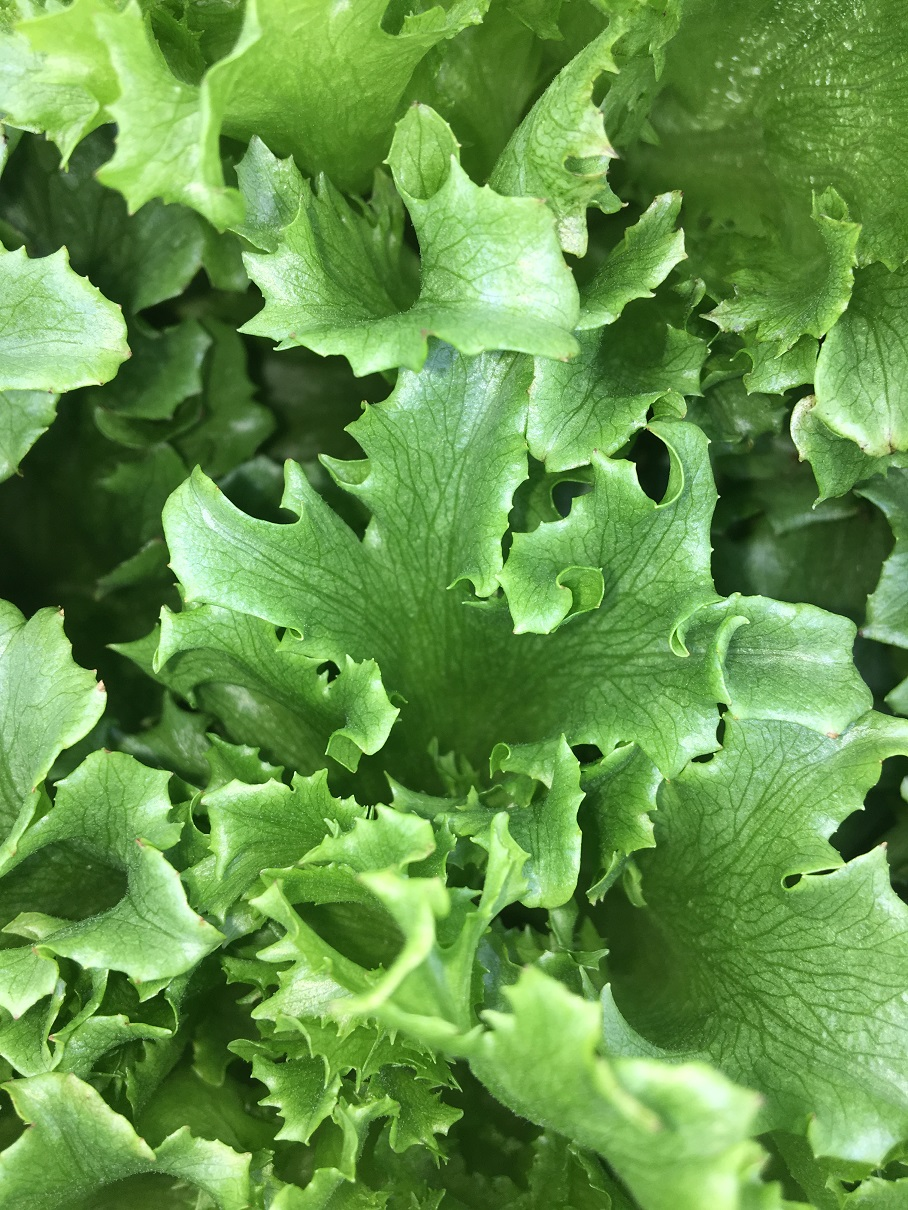tipburn: (697, 285, 755, 340), (179, 897, 220, 943), (715, 684, 751, 735), (554, 333, 594, 377), (31, 1018, 71, 1060), (811, 721, 853, 761), (788, 382, 829, 422), (403, 314, 443, 354), (523, 179, 564, 218), (582, 93, 622, 130), (119, 822, 156, 862), (28, 376, 69, 412), (1, 114, 30, 160), (547, 568, 588, 600), (842, 425, 878, 461), (403, 85, 438, 122), (581, 433, 615, 471), (19, 933, 54, 969), (49, 593, 82, 631), (876, 424, 908, 461), (653, 181, 691, 212), (10, 1108, 43, 1141), (85, 669, 115, 703), (594, 135, 633, 159), (274, 327, 310, 352), (95, 734, 122, 767)
